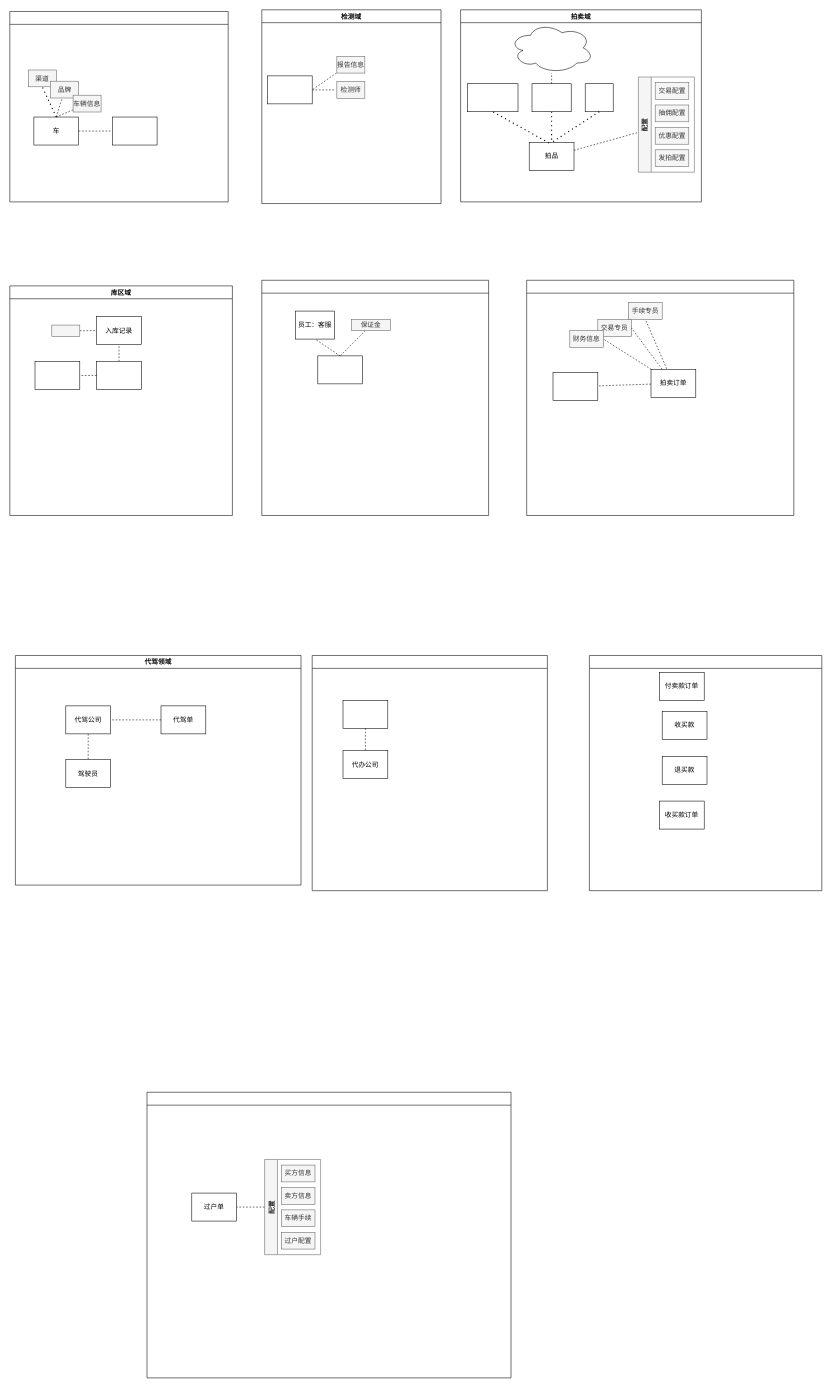
The diagram is 832 pixels wide and 1388 high, and some of its shapes have lost their labels. The shapes that lost their labels are listed below. From the top down, each one's box as (x1, y1, x2, y2) in pixels, then its label:
(509, 22, 594, 73): 卖方用户(自主发拍) 发拍场地(员工分组) 委托发拍人(员工)
(9, 11, 228, 202): 车源域
(267, 75, 312, 104): 检测报告
(467, 83, 518, 112): 员工：销售促进
(531, 83, 571, 112): 发拍方
(585, 83, 613, 112): 场次
(112, 116, 157, 145): 车源单
(51, 325, 80, 336): 车位号
(34, 361, 80, 389): 龙门
(96, 361, 141, 389): 库区
(317, 355, 363, 384): 卖方用户
(552, 372, 598, 401): 退车记录
(261, 280, 489, 515): 账户域
(526, 280, 794, 515): 订单域
(342, 700, 388, 728): 代办单
(312, 655, 547, 891): 代办领域
(589, 655, 822, 891): 财务域
(146, 1092, 511, 1378): 过户领域
